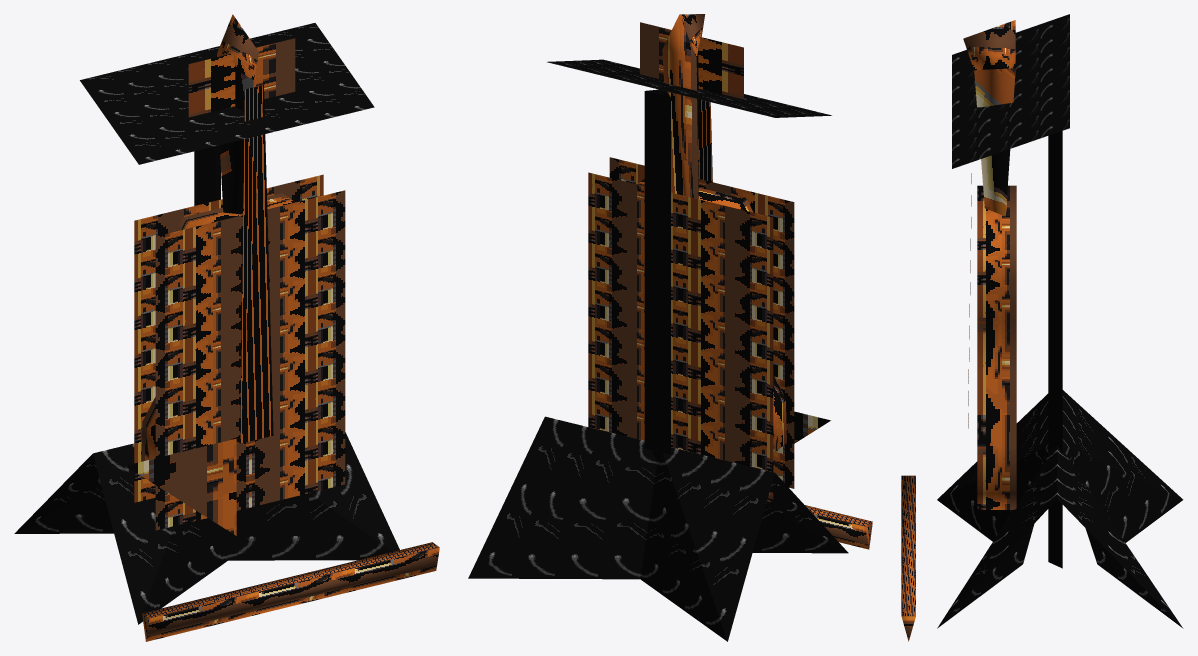
The model's file is 1343gakki02_c.gltf.
3 views of the same model, side by side, from view 1: azimuth 30°, elevation 25°; view 2: azimuth 150°, elevation 25°; view 3: azimuth 270°, elevation 25° (orthographic). The views are drawn at different scales.
Visible parts, largest first — view 1: 1343gakki02_c; view 2: 1343gakki02_c; view 3: 1343gakki02_c.
Boxes of the visible parts, x1,y1,x2,y2 form: 1343gakki02_c: [14, 14, 439, 641]; 1343gakki02_c: [468, 14, 872, 641]; 1343gakki02_c: [901, 14, 1183, 641].
Bounding box in the file's own units: 0.739 × 1.35 × 0.6262.
2 materials, 2 textured.
